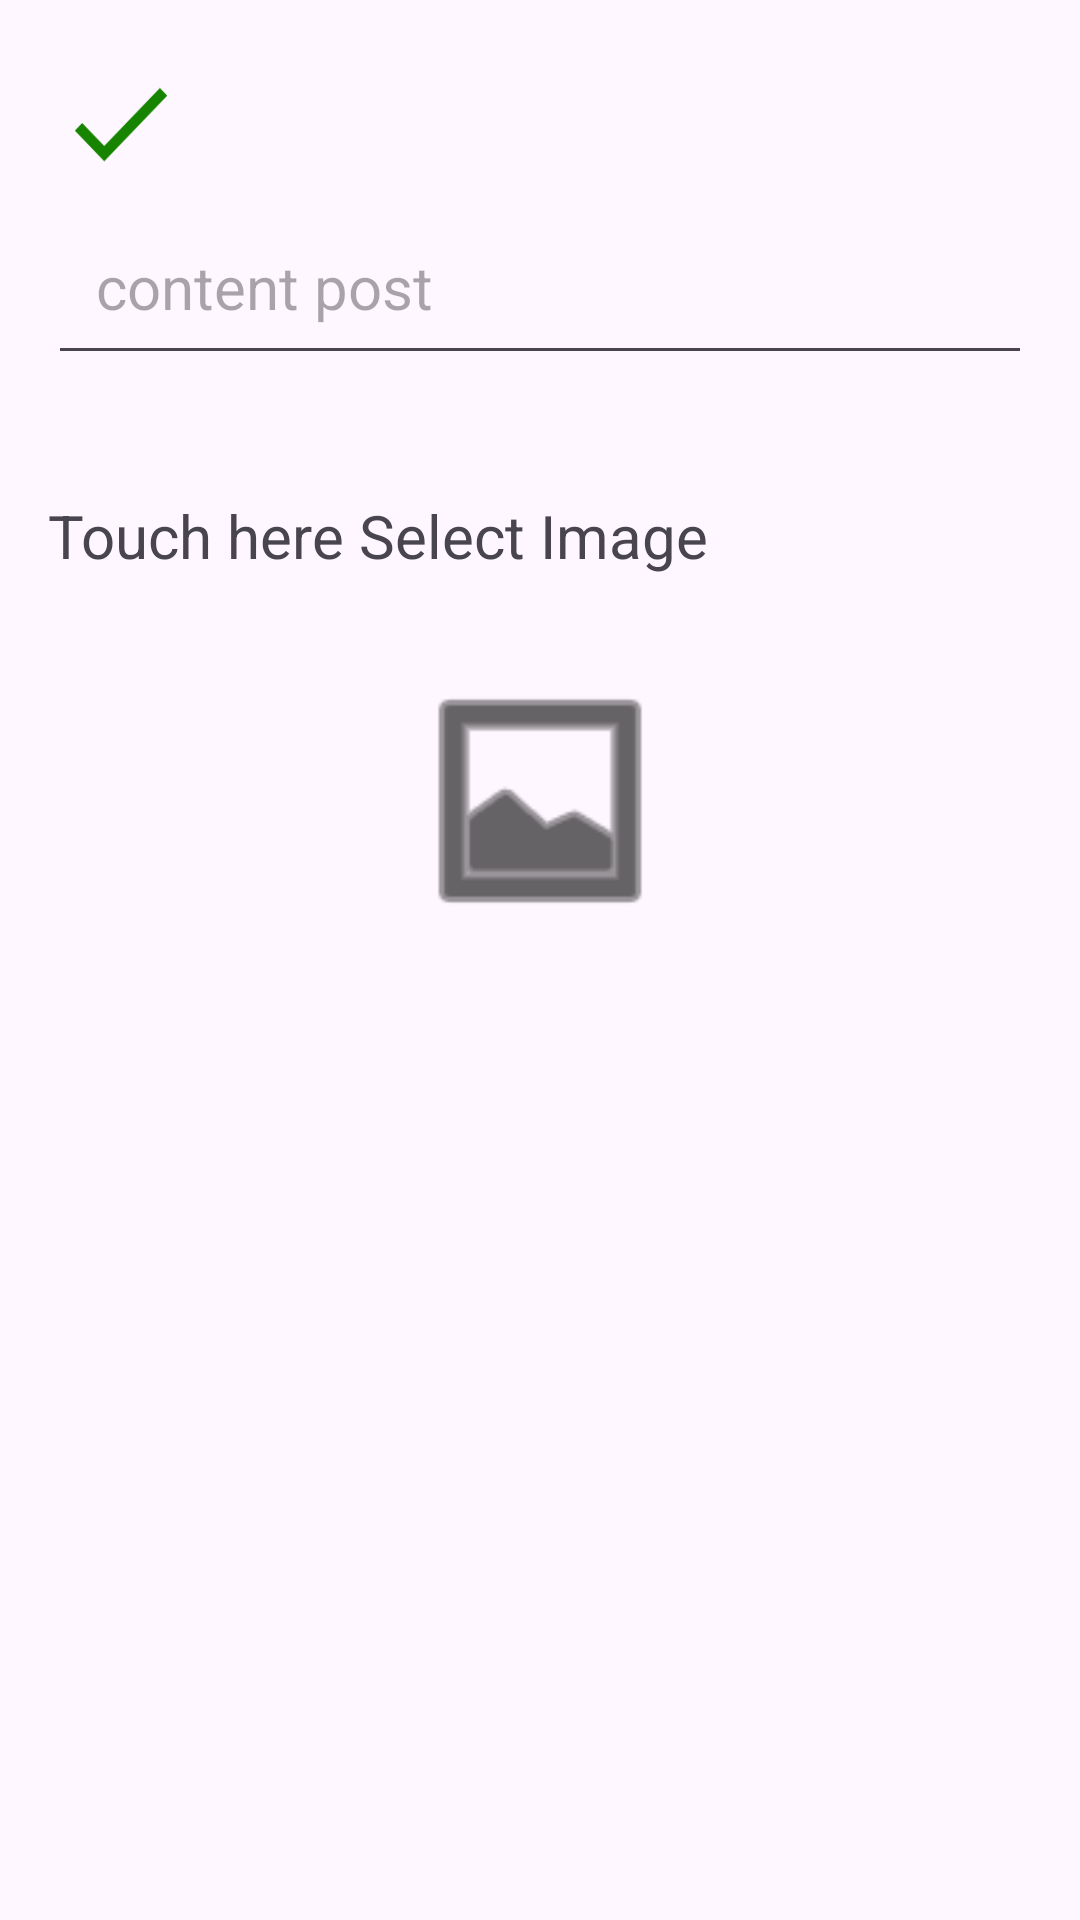

Icons on this 1080×1920 Android screen, each with its box as (x1, y1, x2, y2):
check: (75, 87, 167, 162)
gallery: (438, 699, 642, 903)
